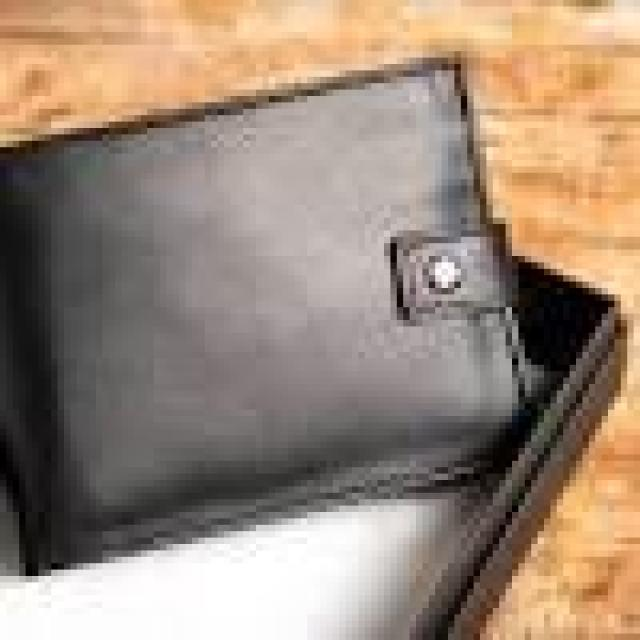cuzdan: (0, 41, 595, 572)
